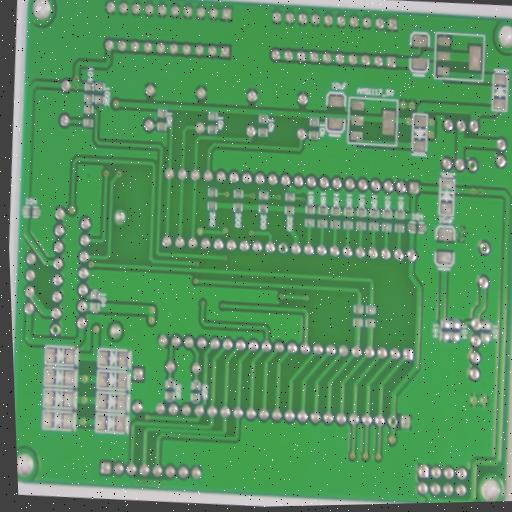missing_hole: (277, 240, 289, 256), (387, 415, 399, 430), (50, 323, 62, 337), (479, 240, 490, 255), (467, 158, 478, 173)
